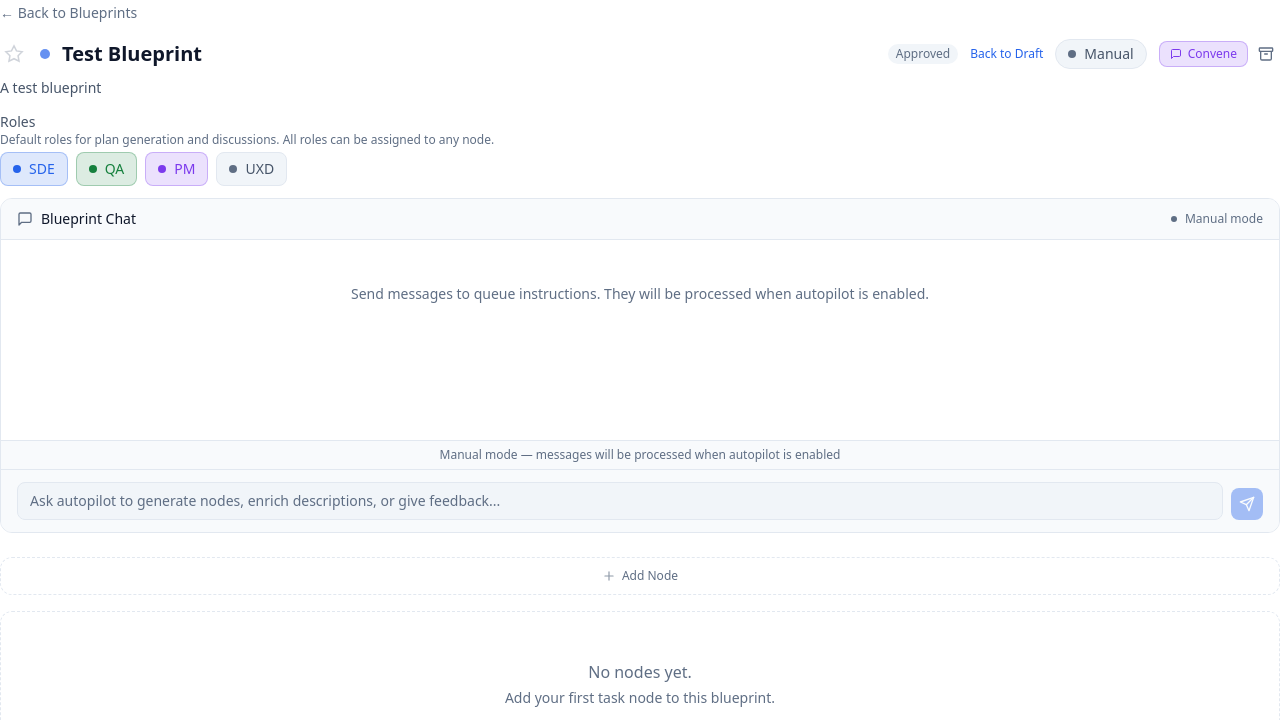
Test case: BlueprintDetailPage › Convene config form › shows max round stepper buttons 1-5 with default 3 selected
Click the button "Convene". click: (1203, 54)
box: top-left (1159, 41), bottom-right (1248, 67)
(page scrolled)
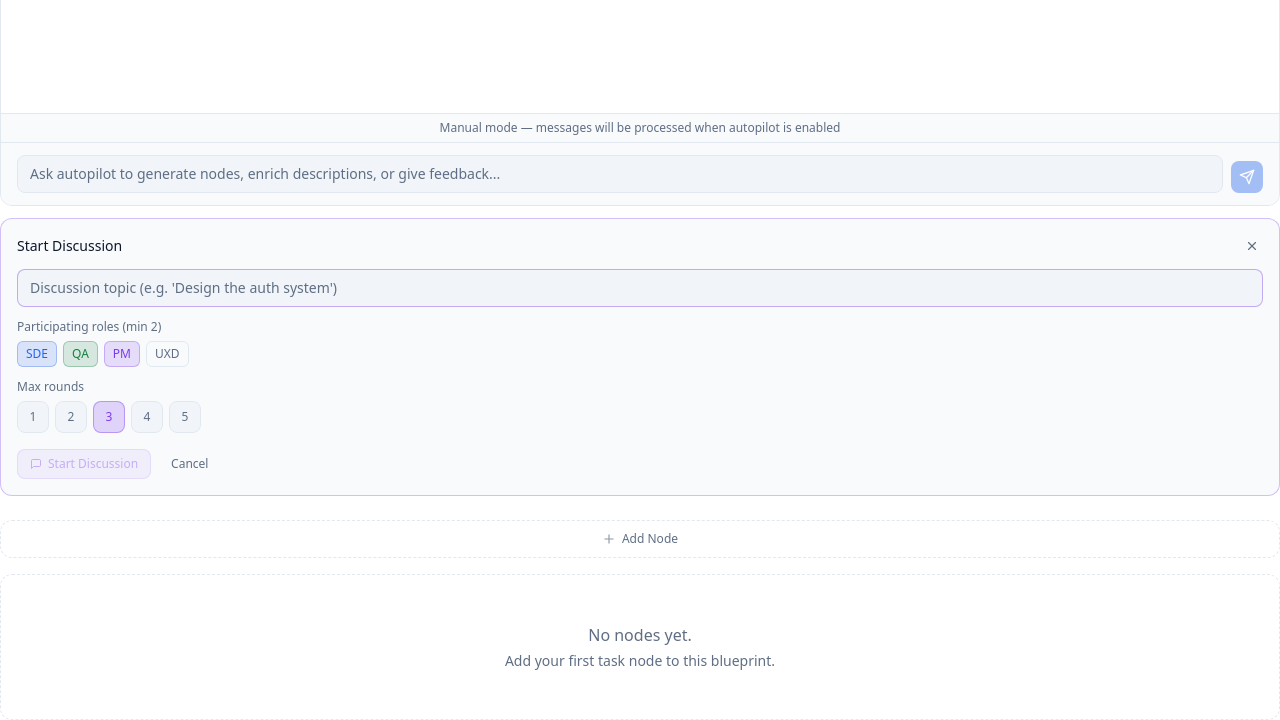
Result: the heading "Start Discussion" is shown at top-left (17, 236), bottom-right (122, 256)
Result: the button "1" is shown at top-left (17, 401), bottom-right (49, 433)
Result: the button "2" is shown at top-left (55, 401), bottom-right (87, 433)
